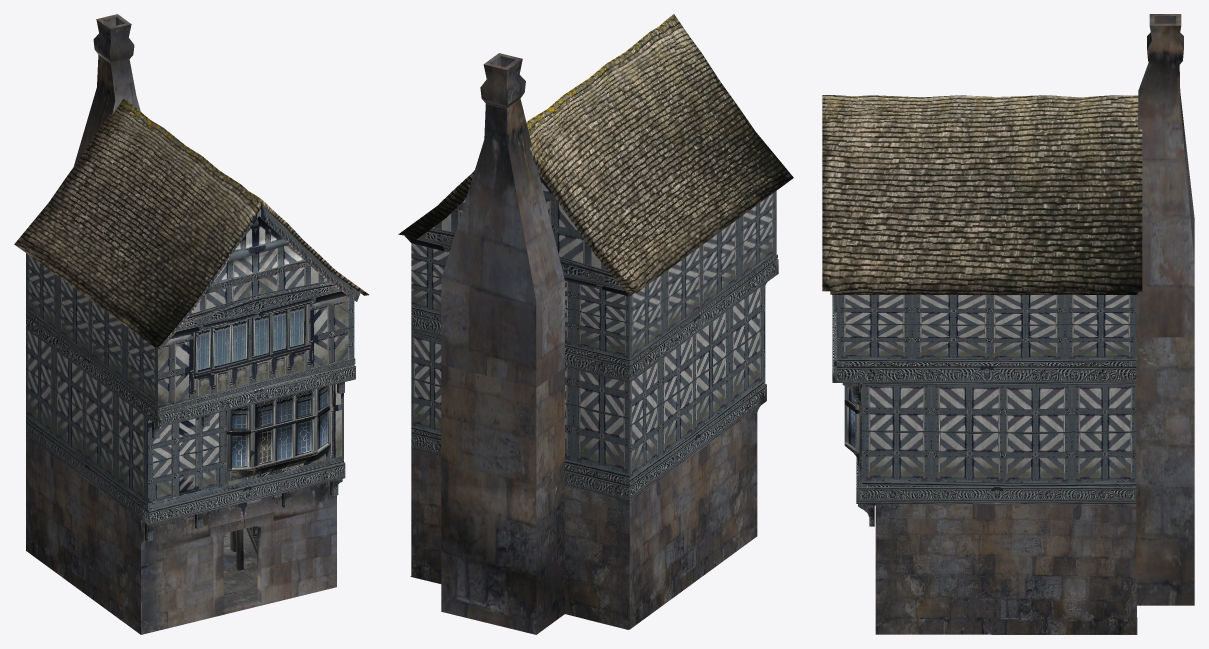
Rendered from medhouse1.fbx.
3 views of the same model, side by side, from view 1: azimuth 30°, elevation 25°; view 2: azimuth 150°, elevation 25°; view 3: azimuth 270°, elevation 25° (orthographic). The views are drawn at different scales.
Parts seen in each view (by area): view 1: medhouse1, medhouse1Interior; view 2: medhouse1; view 3: medhouse1.
Part boxes in pixels (<box>): medhouse1: <box>14,14,369,634</box>; medhouse1Interior: <box>223,526,257,607</box>; medhouse1: <box>398,14,793,634</box>; medhouse1: <box>822,14,1194,634</box>.
Size of the model in its own units: 682 by 1503 by 903.
